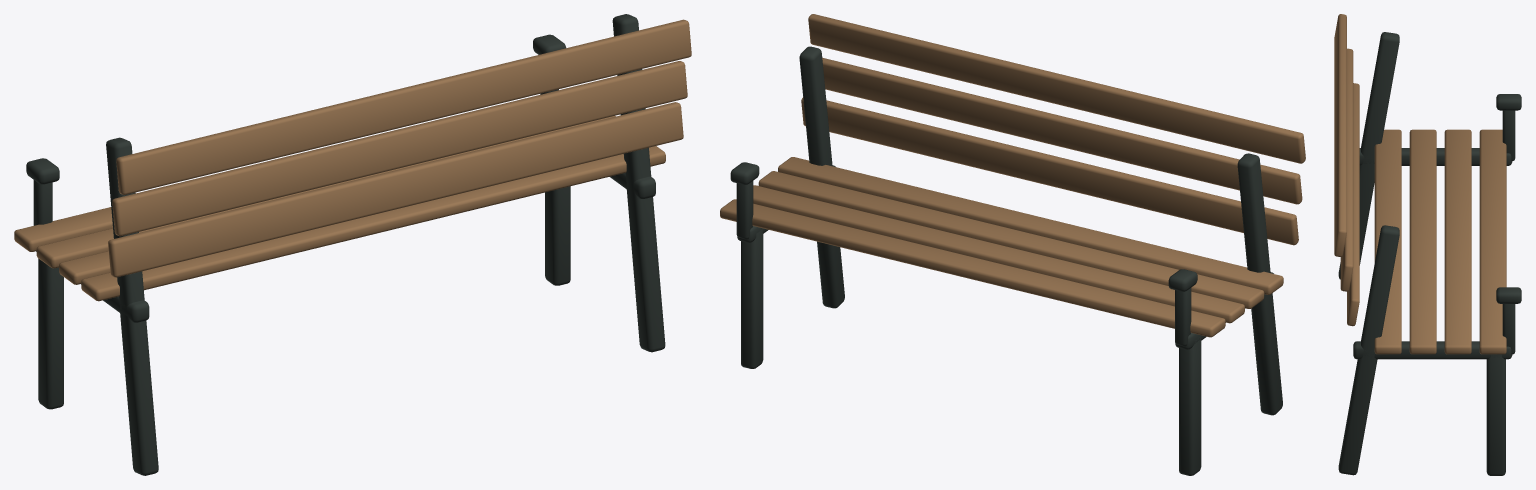
Rendered from park_bench.glb.
The picture shows the model from 3 angles, left to right: view 1: azimuth 30°, elevation 25°; view 2: azimuth 150°, elevation 25°; view 3: azimuth 270°, elevation 25°; orthographic projection. The views are drawn at different scales.
Visible parts, largest first — view 1: park_bench; view 2: park_bench; view 3: park_bench.
Boxes of the visible parts, x1,y1,x2,y2 form: park_bench: (14, 14, 691, 475); park_bench: (720, 14, 1305, 475); park_bench: (1334, 14, 1521, 475).
Bounding box in the file's own units: 1.62 × 0.8878 × 0.5901.
